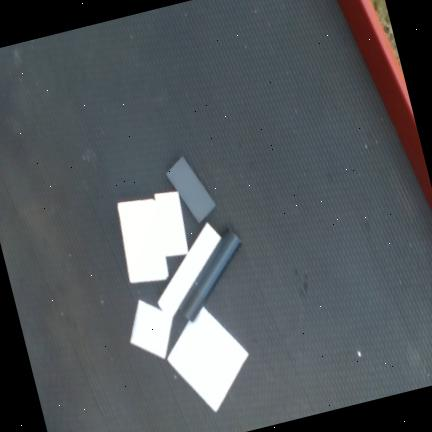Cilindro: (157, 221, 221, 317), (179, 227, 242, 321)
Paralelepipedo: (116, 198, 169, 283), (165, 155, 216, 223), (154, 191, 188, 257)
Piramide: (166, 304, 249, 414), (129, 299, 173, 359)
